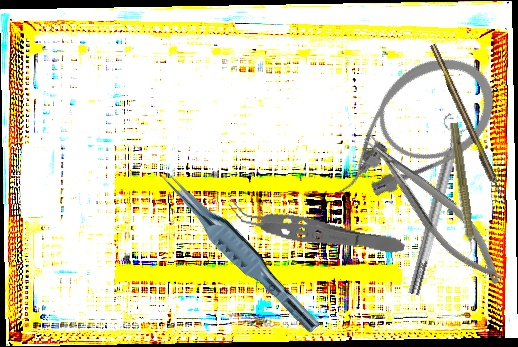Cannula: (303, 36, 515, 222)
Fixation Ring: (397, 112, 475, 298)
Handpiece: (443, 121, 481, 264)
Hook Surgical: (429, 42, 507, 205)
Needle Holder: (356, 119, 513, 296)
Tissue Forceps: (152, 167, 329, 335), (224, 198, 408, 262)
